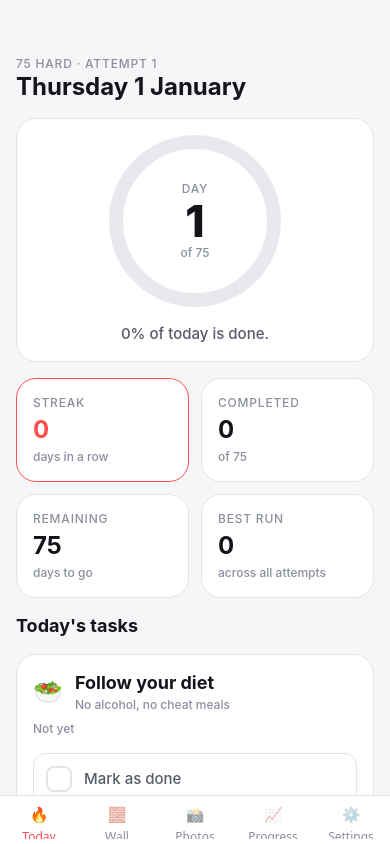
Scenario: Wall tab › shows the calendar grid and legend once a challenge is under way
Check: the text "Today" is shown, box [22,829,56,839]
Click the text "Wall" at (117, 834), box [105,829,129,839]
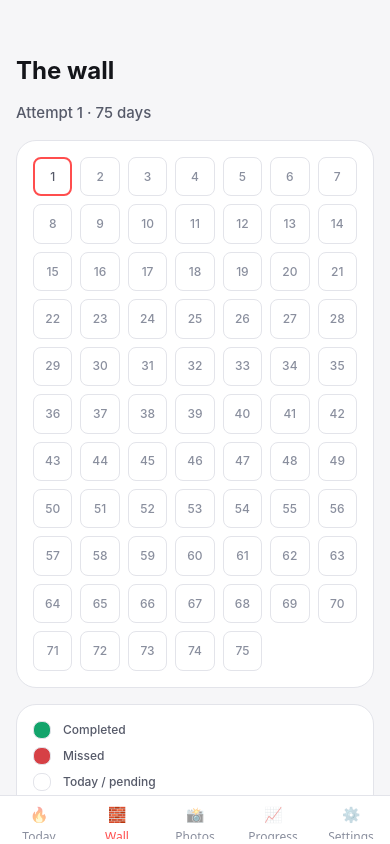
Check: the text "The wall" is shown, box [16,56,114,85]
Check: the text "Attempt 1 · 75 days" is shown, box [16,103,151,122]
Check: the text "Completed" is shown, box [63,722,126,738]
